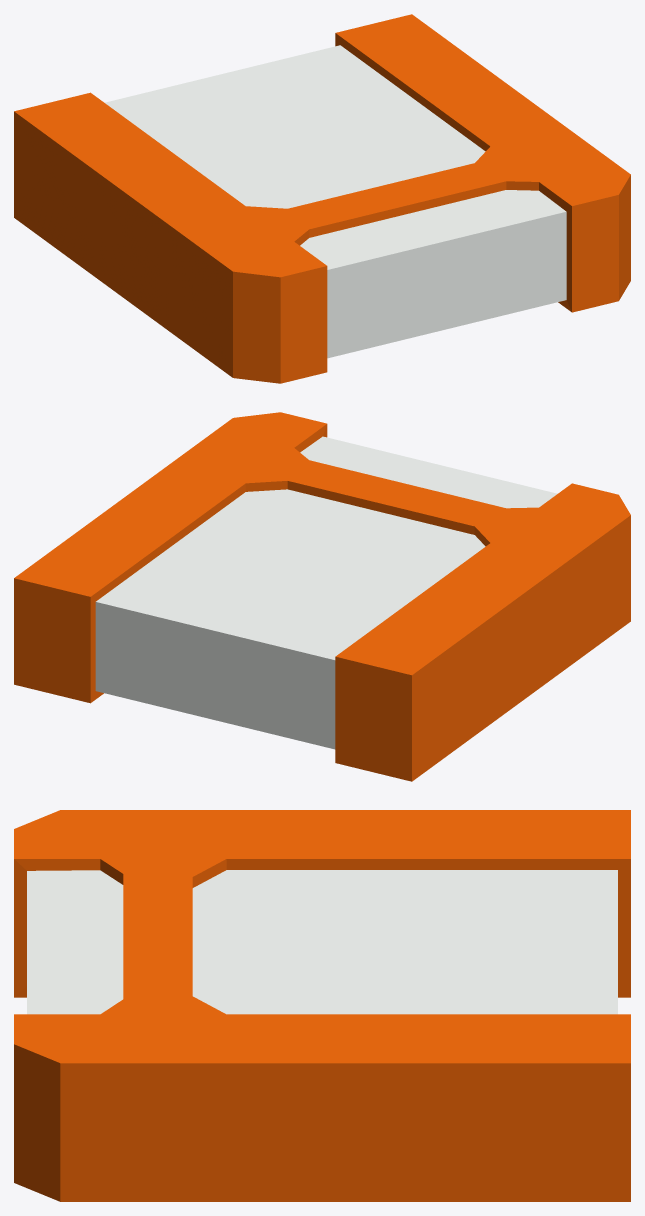
Rendered from dash.glb.
3 renders of one model, top to bottom at view 1: azimuth 30°, elevation 25°; view 2: azimuth 150°, elevation 25°; view 3: azimuth 270°, elevation 25°, orthographic. The views are drawn at different scales.
Parts seen in each view (by area): view 1: hyper-rom-orange_mesh, hyper-rom-white_mesh; view 2: hyper-rom-orange_mesh, hyper-rom-white_mesh; view 3: hyper-rom-orange_mesh, hyper-rom-white_mesh.
Part boxes in pixels (<box>): hyper-rom-orange_mesh: <box>14,14,630,383</box>; hyper-rom-white_mesh: <box>105,45,566,358</box>; hyper-rom-orange_mesh: <box>14,412,630,781</box>; hyper-rom-white_mesh: <box>95,436,557,749</box>; hyper-rom-orange_mesh: <box>14,810,630,1201</box>; hyper-rom-white_mesh: <box>27,870,617,1014</box>.
Size of what is drawn, in the model's own units: 0.2427 by 0.062 by 0.25.
Materials: 1 (1 with a texture image).
